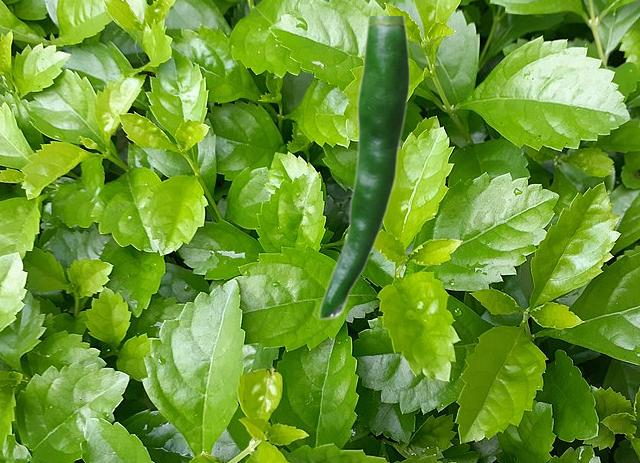green_chili: (317, 16, 408, 319)
